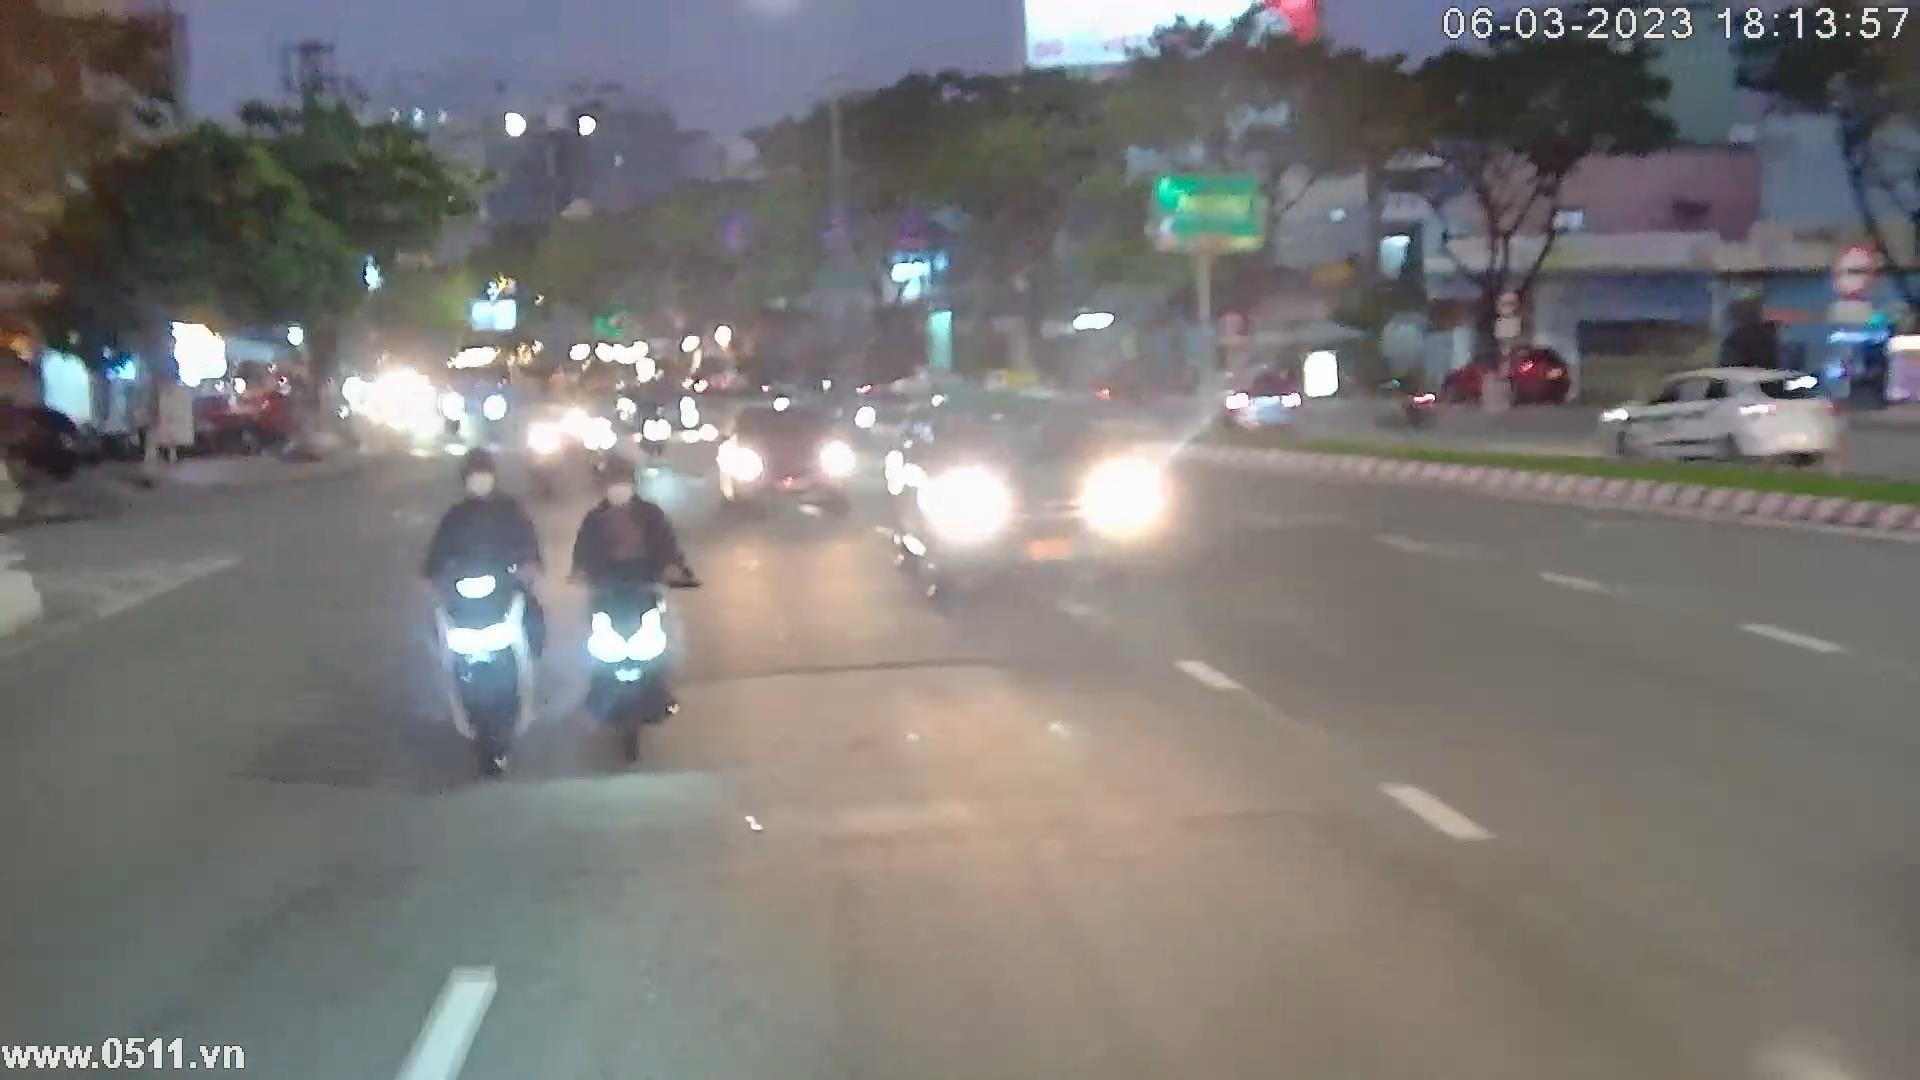car: (886, 393, 1200, 608), (1594, 360, 1842, 483), (713, 394, 858, 526), (1203, 360, 1304, 435)
motorcycle: (417, 442, 553, 789), (563, 442, 704, 774)
